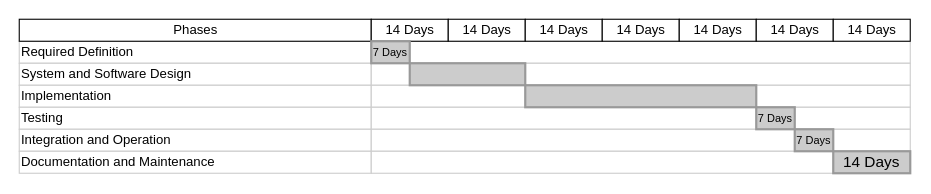
Image size: 931x194. Some labels were removed from this diagram. Each missing label, with the box of its shape:
21 Days: (408, 62, 526, 86)
42 Days: (524, 84, 757, 108)
